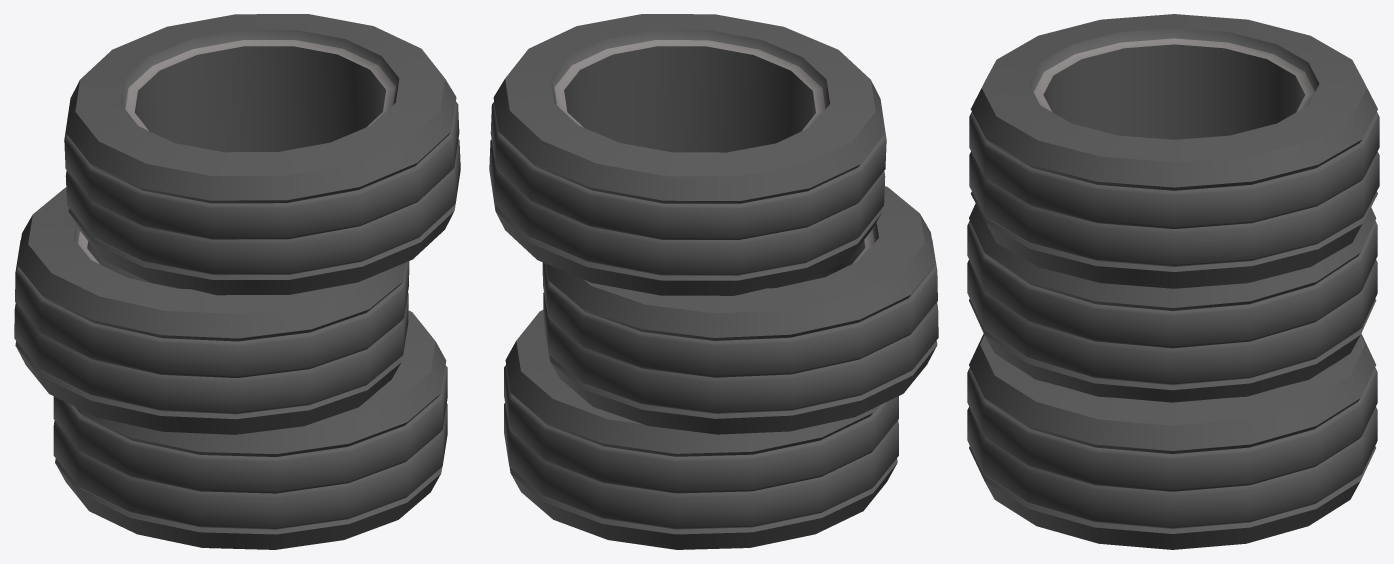
Rendered from prop_wheels.glb.
The picture shows the model from 3 angles, left to right: view 1: azimuth 30°, elevation 25°; view 2: azimuth 150°, elevation 25°; view 3: azimuth 270°, elevation 25°; orthographic projection. The views are drawn at different scales.
Parts seen in each view (by area): view 1: Wheels_Stack; view 2: Wheels_Stack; view 3: Wheels_Stack.
Part boxes in pixels (x1,y1,x2,y2): Wheels_Stack: [14, 14, 460, 549]; Wheels_Stack: [489, 14, 938, 549]; Wheels_Stack: [967, 14, 1379, 549].
Size of the model in its own units: 0.6576 by 0.6114 by 0.5719.
Materials: 1 (1 with a texture image).
